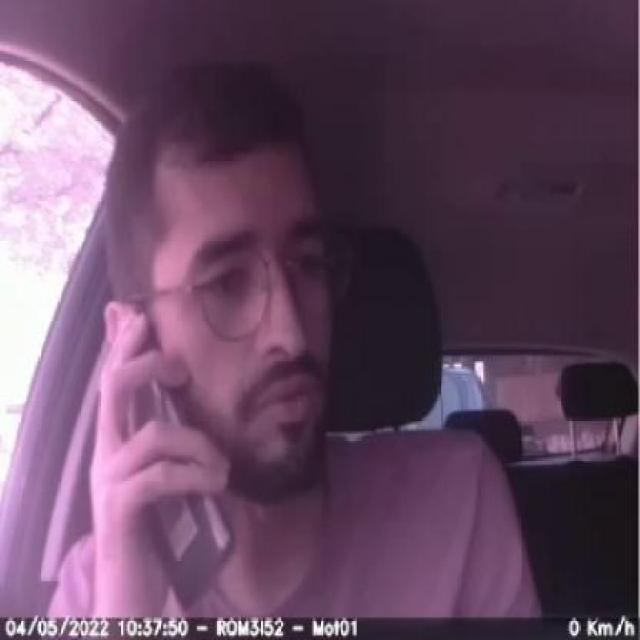using_phone: (60, 310, 244, 621)
